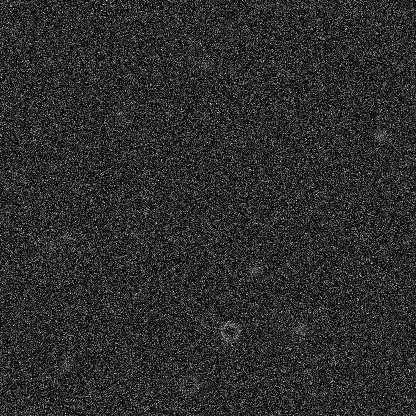Ring: (217, 319, 241, 343), (177, 372, 201, 396)
Spot: (293, 319, 309, 335), (246, 261, 262, 277), (113, 106, 129, 122), (120, 196, 136, 212), (42, 236, 58, 252), (198, 57, 214, 73), (371, 126, 387, 142), (58, 356, 74, 372), (57, 229, 73, 245)
